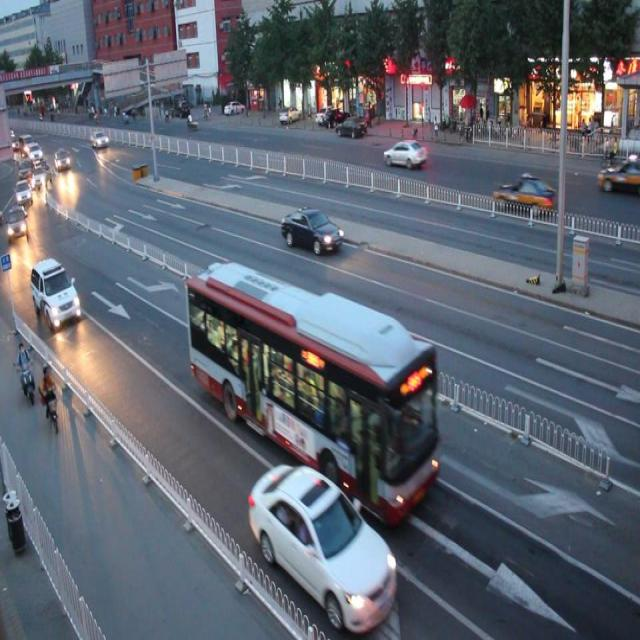car: (248, 462, 397, 632), (32, 256, 83, 328), (281, 205, 342, 257), (492, 174, 557, 218), (383, 134, 427, 172), (596, 158, 640, 196)
van: (186, 258, 440, 522)
